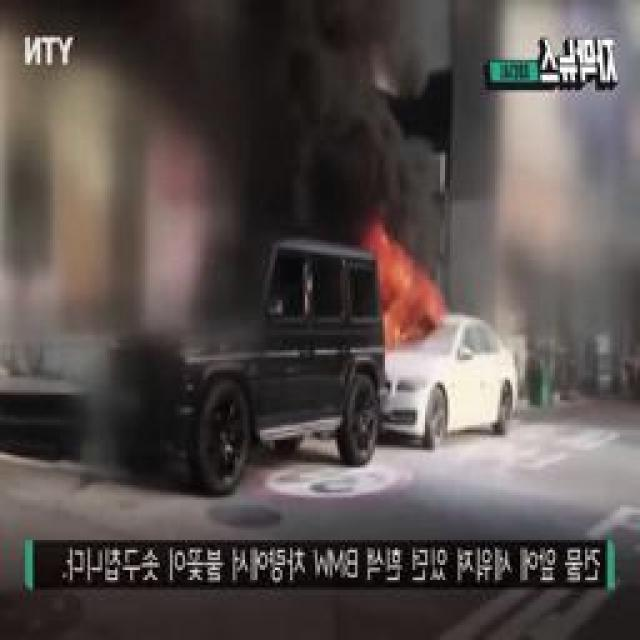Fire: (374, 249, 441, 353)
